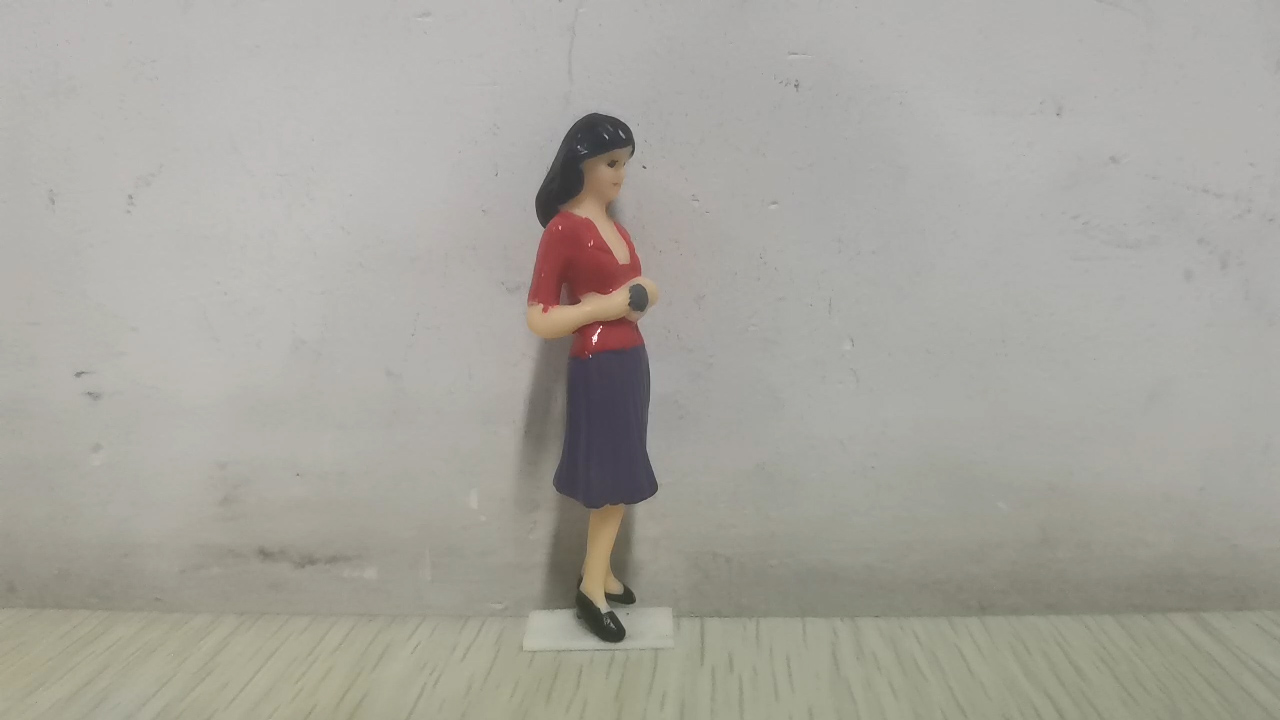person: (521, 110, 662, 644)
